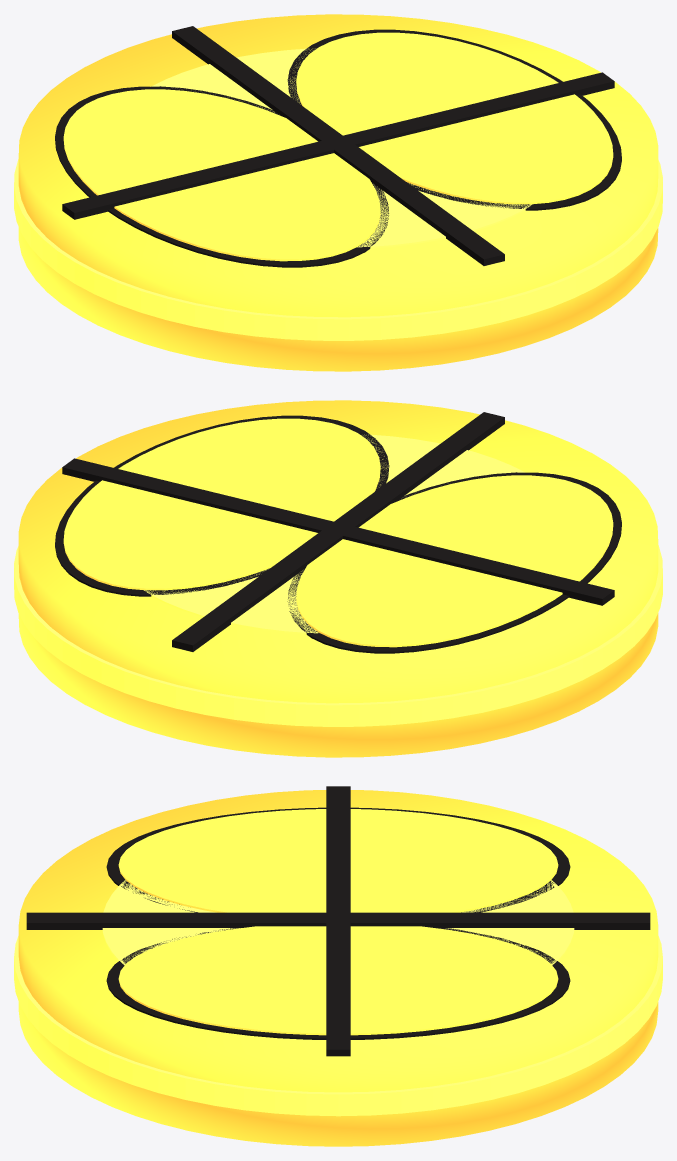
File: disco_neo_basketball.glb
3 renders of one model, top to bottom at view 1: azimuth 30°, elevation 25°; view 2: azimuth 150°, elevation 25°; view 3: azimuth 270°, elevation 25°, orthographic.
Parts seen in each view (by area): view 1: BasketballPuckChassis, Cylinder.002, Cylinder.004, Cylinder, Cube, Cube.001, Cylinder.005, Cylinder.001, Cylinder.003; view 2: BasketballPuckChassis, Cylinder.002, Cylinder.004, Cylinder, Cube, Cube.001, Cylinder.005, Cylinder.001, Cylinder.003; view 3: BasketballPuckChassis, Cylinder.004, Cylinder.002, Cylinder, Cube.001, Cylinder.005, Cube, Cylinder.003, Cylinder.001.
Boxes of the visible parts, left/top/right/bottom form: BasketballPuckChassis: left=18, top=14, right=658, bottom=371; Cylinder.002: left=63, top=89, right=380, bottom=261; Cylinder.004: left=296, top=32, right=613, bottom=204; Cylinder: left=14, top=159, right=662, bottom=340; Cube: left=62, top=72, right=614, bottom=219; Cube.001: left=172, top=26, right=504, bottom=265; Cylinder.005: left=151, top=48, right=531, bottom=248; Cylinder.001: left=55, top=86, right=388, bottom=267; Cylinder.003: left=287, top=29, right=621, bottom=210; BasketballPuckChassis: left=18, top=400, right=658, bottom=757; Cylinder.002: left=296, top=475, right=613, bottom=647; Cylinder.004: left=63, top=418, right=380, bottom=590; Cylinder: left=14, top=545, right=662, bottom=726; Cube: left=62, top=458, right=614, bottom=605; Cube.001: left=172, top=412, right=504, bottom=651; Cylinder.005: left=144, top=434, right=525, bottom=634; Cylinder.001: left=287, top=472, right=621, bottom=653; Cylinder.003: left=55, top=415, right=389, bottom=596; BasketballPuckChassis: left=18, top=790, right=658, bottom=1146; Cylinder.004: left=118, top=926, right=558, bottom=1035; Cylinder.002: left=118, top=809, right=558, bottom=912; Cylinder: left=14, top=936, right=662, bottom=1116; Cube.001: left=26, top=912, right=650, bottom=929; Cylinder.005: left=102, top=880, right=574, bottom=965; Cube: left=326, top=786, right=350, bottom=1056; Cylinder.003: left=106, top=928, right=570, bottom=1039; Cylinder.001: left=106, top=807, right=570, bottom=912.
Size of the model in its own units: 0.1015 by 0.0168 by 0.1015.
